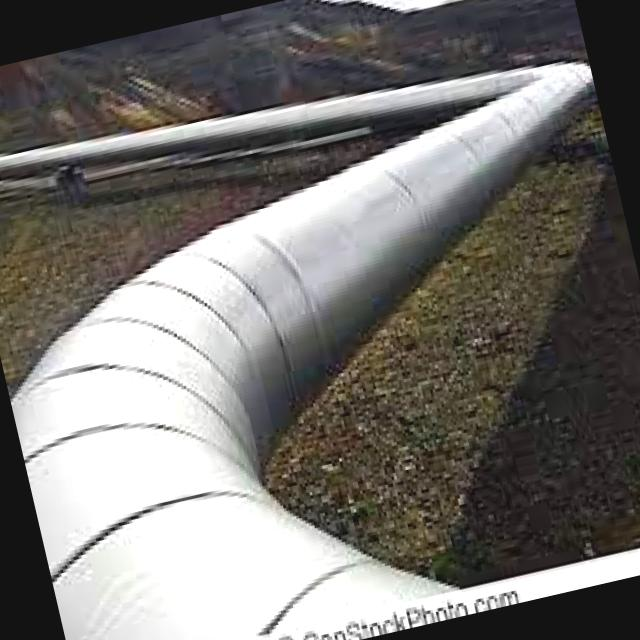gas: (0, 66, 640, 640)
